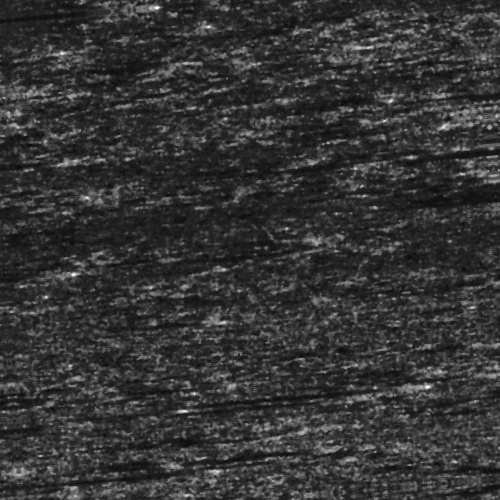object: (39, 23, 102, 42), (34, 251, 107, 260), (214, 0, 349, 4), (364, 396, 417, 401)
shadow: (389, 211, 500, 226), (101, 396, 391, 401), (0, 23, 70, 42), (0, 0, 282, 4), (0, 251, 70, 260), (465, 162, 500, 177), (442, 111, 500, 116)
